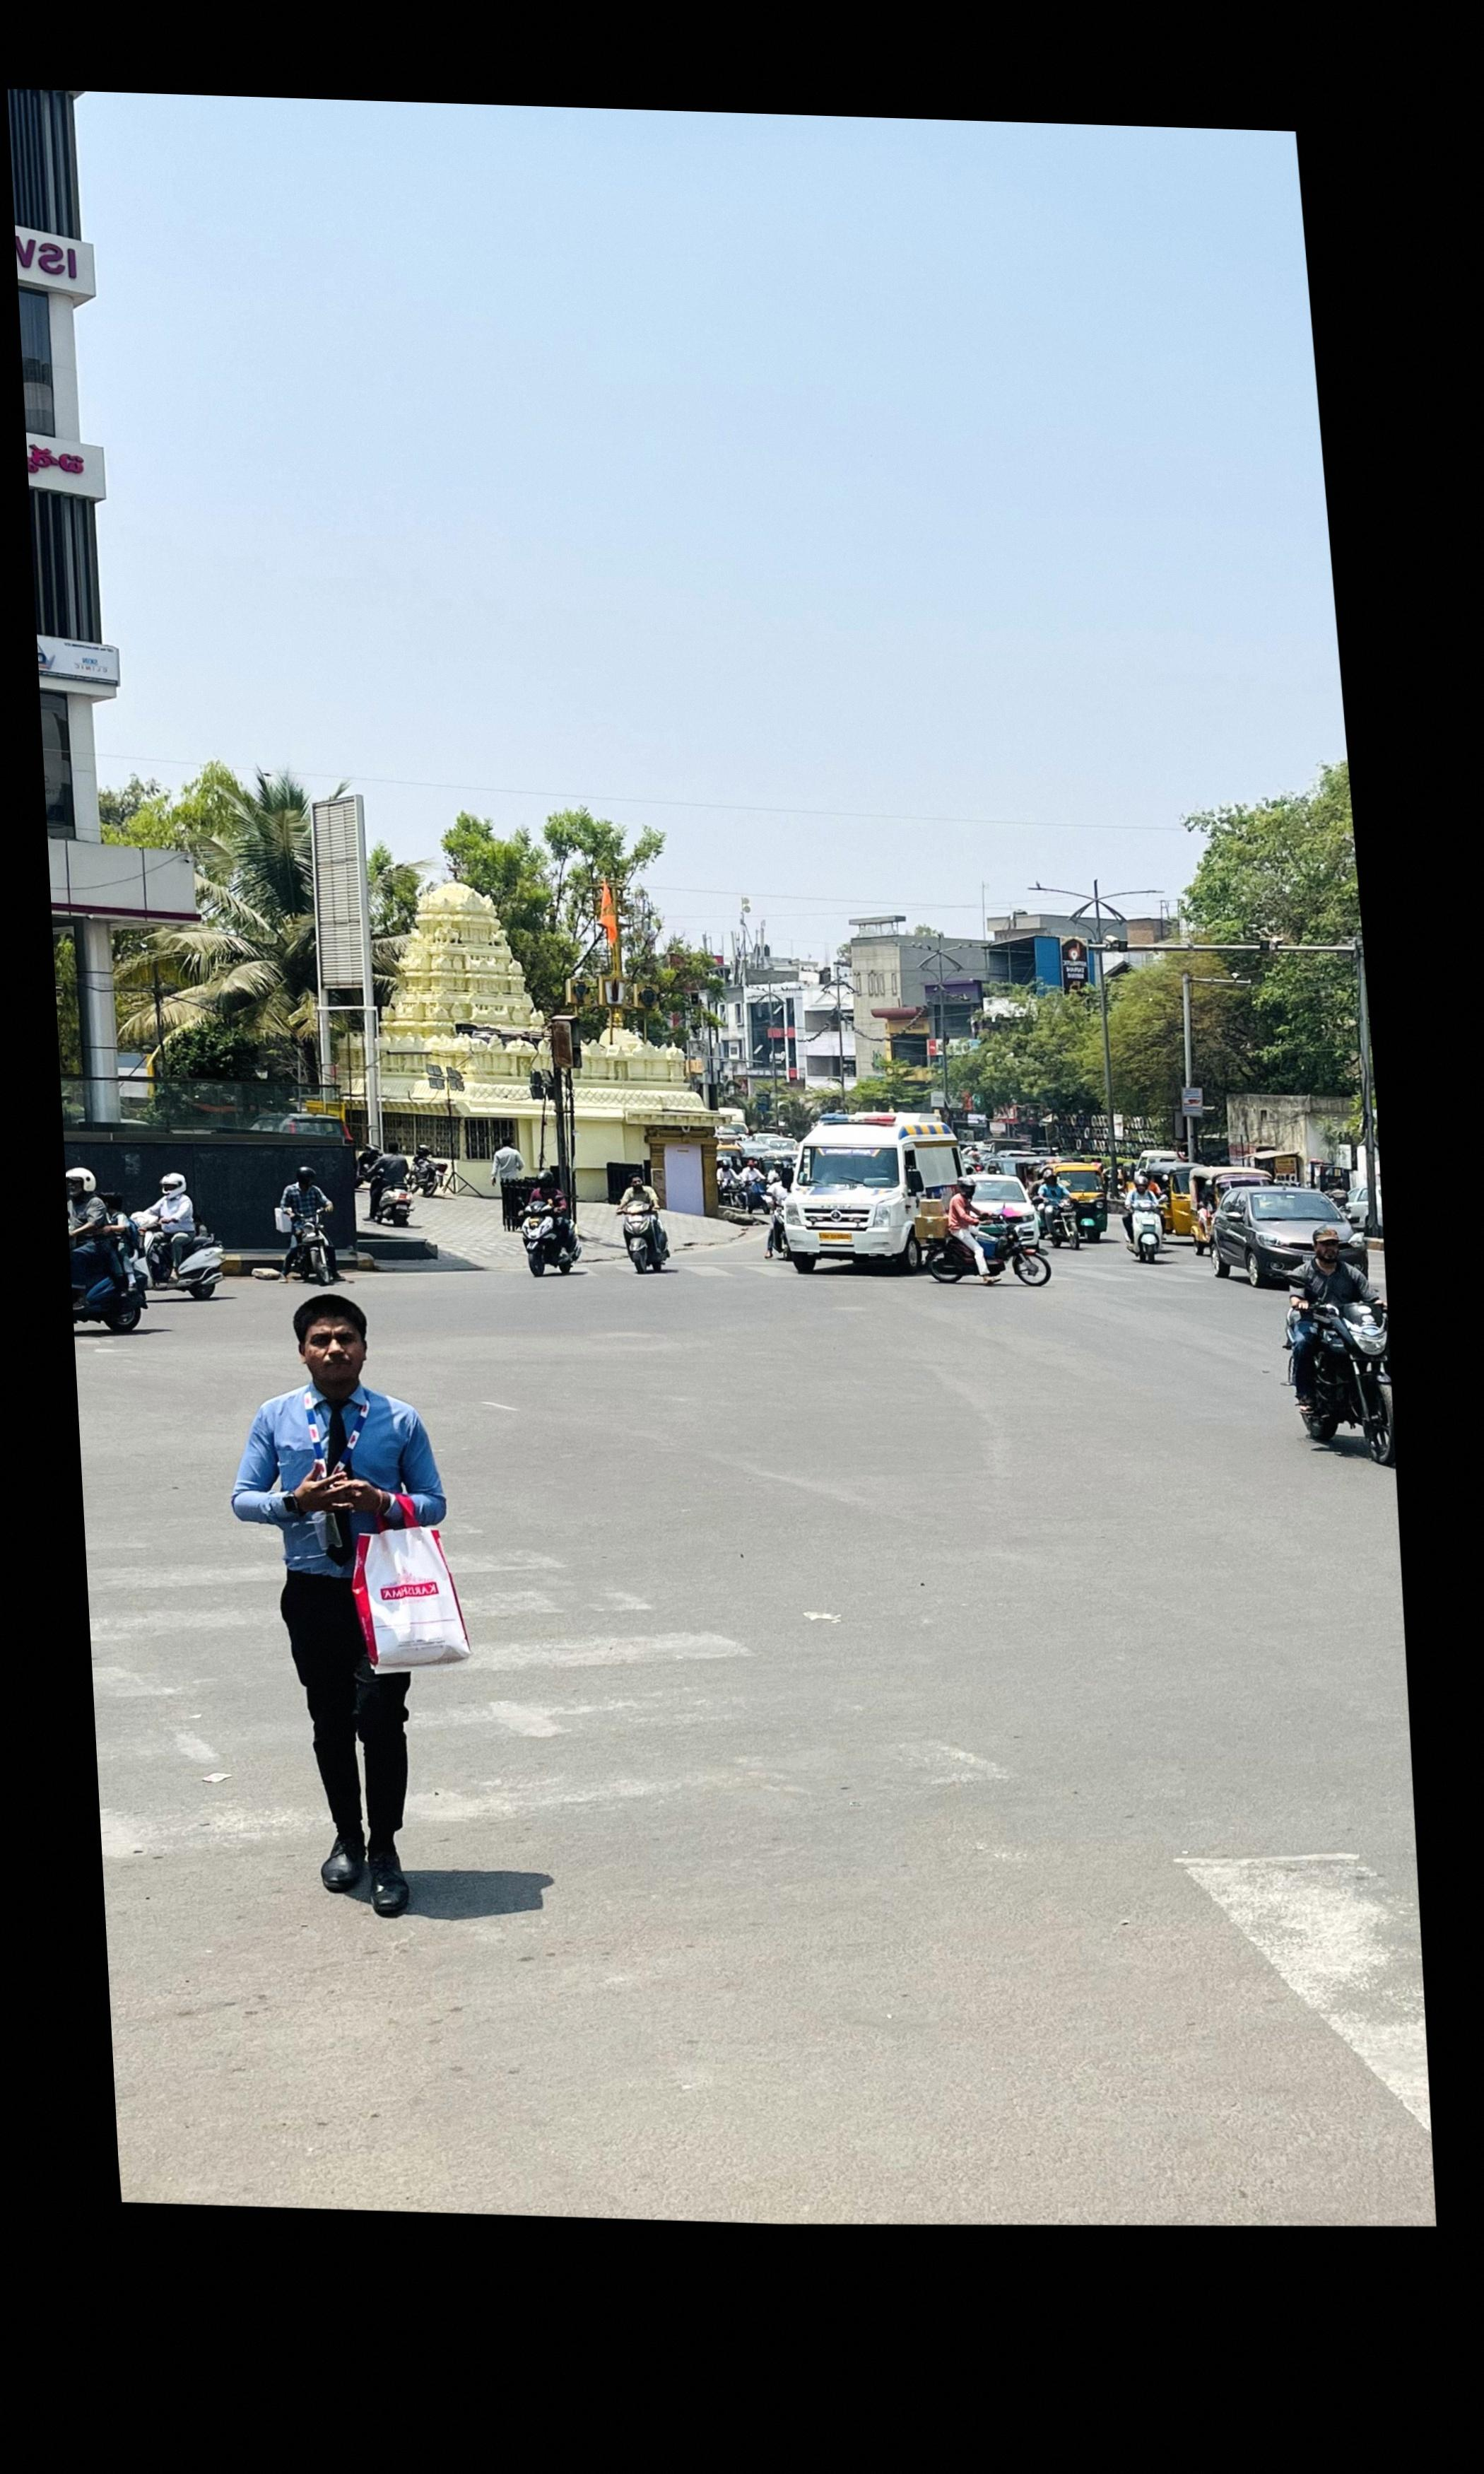ambulance: (783, 1113, 963, 1272)
